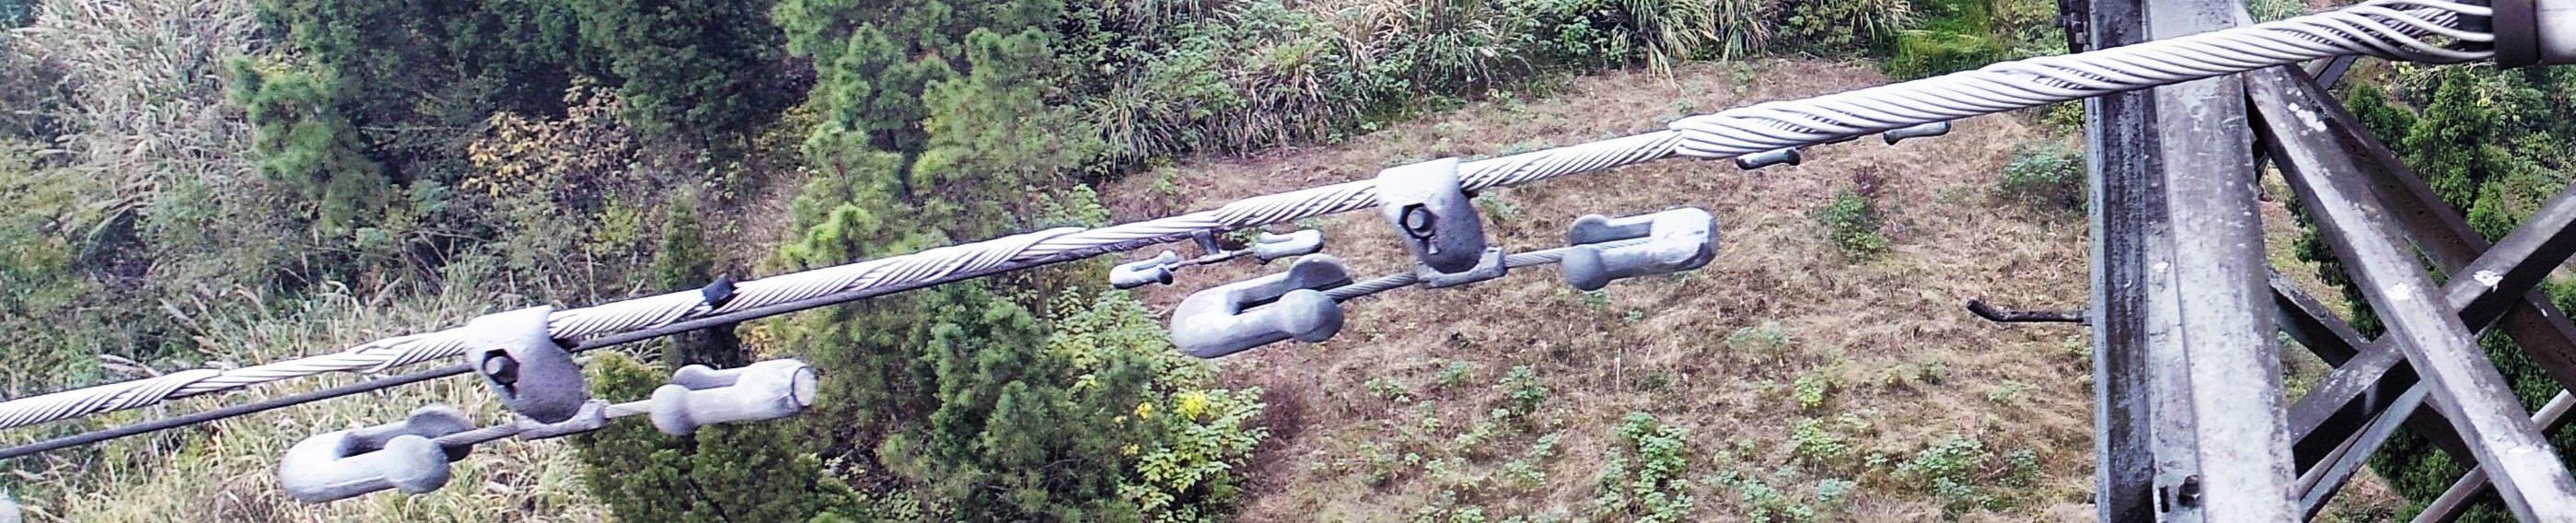Shockproof hammer: (1148, 118, 1732, 382), (263, 253, 828, 513)
